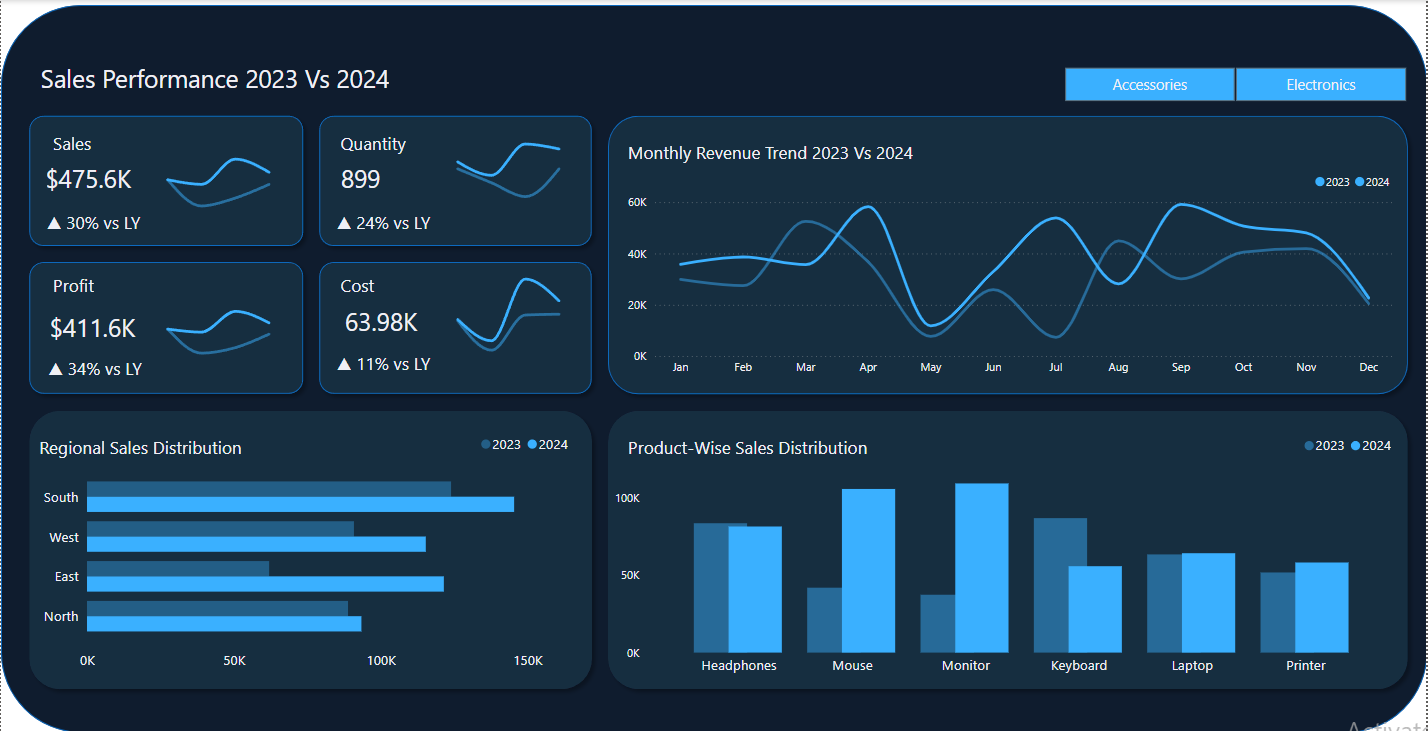

What the dashboard file says about the page in this screenshot:
{"tool":"powerbi","page":{"name":"Page 1","canvas":[1550,800],"ordinal":0},"visuals":[{"type":"shape","box":[0,5,1550.3,791],"z":0,"group":"g1"},{"type":"group","id":"g1","title":"Group 1","box":[0,5,1550.3,791],"z":0},{"type":"shape","box":[21.6,116.3,315.7,159.5],"z":1000,"group":"g1"},{"type":"textbox","box":[51.5,137.9,93.1,39.9],"z":1000},{"type":"shape","box":[337.3,116.3,314.1,159.5],"z":2000,"group":"g1"},{"type":"textbox","box":[363.9,292.5,81.4,39.9],"z":2000},{"type":"textbox","box":[363.9,137.9,98,39.9],"z":3000},{"type":"shape","box":[21.6,275.9,315.7,161.2],"z":3000,"group":"g1"},{"type":"shape","box":[337.3,275.9,314.1,161.2],"z":4000,"group":"g1"},{"type":"textbox","box":[51.5,292.5,93.1,39.9],"z":4000},{"type":"shape","box":[651.4,116.3,887.3,320.7],"z":5000,"group":"g1"},{"type":"textbox","box":[36.6,468.6,262.5,48.2],"z":5000},{"type":"shape","box":[651.4,437,887.3,320.7],"z":6000,"group":"g1"},{"type":"textbox","box":[676.3,468.6,314.1,39.9],"z":6000},{"type":"textbox","box":[676.3,147.9,352.3,51.5],"z":7000},{"type":"shape","box":[21.6,437,629.8,320.7],"z":7000,"group":"g1"},{"type":"textbox","box":[38.2,63.1,423.7,44.9],"z":8000},{"type":"card","fields":{"Values":["Sheet1.Sales CY"]},"box":[21.6,171.2,146.2,48.2],"z":8000,"group":"g1"},{"type":"card","fields":{"Values":["Sheet1.Quantity CY"]},"box":[352.3,171.2,78.1,48.2],"z":9000},{"type":"card","fields":{"Values":["Sheet1.Sales YoY Indicator"]},"box":[21.6,216.1,157.9,54.8],"z":9000,"group":"g1"},{"type":"lineChart","fields":{"Category":["Sheet1.Month"],"Series":["Sheet1.Year"],"Y":["Sum(Sheet1.Sales)"]},"box":[676.3,177.8,842.5,239.3],"z":10000,"group":"g1"},{"type":"card","fields":{"Values":["Sheet1.Profit CY"]},"box":[38.2,332.3,123,48.2],"z":10000},{"type":"card","fields":{"Values":["Sheet1.Cost CY"]},"box":[363.9,332.3,98,36.6],"z":11000},{"type":"clusteredColumnChart","fields":{"Category":["Sheet1.Product"],"Y":["Sum(Sheet1.Sales)"],"Series":["Sheet1.Year"]},"box":[664.7,465.3,854.1,274.2],"z":11000,"group":"g1"},{"type":"card","fields":{"Values":["Sheet1.Profit YoY Indicator"]},"box":[36.6,380.5,131.3,44.9],"z":12000},{"type":"clusteredBarChart","fields":{"Y":["Sum(Sheet1.Sales)"],"Category":["Sheet1.Region"],"Series":["Sheet1.Year"]},"box":[36.6,462,589.9,275.8],"z":12000,"group":"g1"},{"type":"card","fields":{"Values":["Sheet1.Quantity YoY Indicator"]},"box":[337.3,216,157.9,54.8],"z":13000},{"type":"card","fields":{"Values":["Sheet1.Cost YoY Indicator"]},"box":[337.3,368.9,157.9,54.8],"z":14000},{"type":"lineChart","fields":{"Category":["Sheet1.Quarter"],"Series":["Sheet1.Year"],"Y":["Sum(Sheet1.Sales)"]},"box":[161.2,116.3,149.6,127.9],"z":15000},{"type":"lineChart","fields":{"Category":["Sheet1.Quarter"],"Series":["Sheet1.Year"],"Y":["Sheet1.Profit"]},"box":[161.2,304.1,149.6,127.9],"z":16000},{"type":"lineChart","fields":{"Category":["Sheet1.Quarter"],"Series":["Sheet1.Year"],"Y":["Sum(Sheet1.Quantity)"]},"box":[476.9,116.3,149.6,127.9],"z":17000},{"type":"lineChart","fields":{"Category":["Sheet1.Quarter"],"Series":["Sheet1.Year"],"Y":["Sum(Sheet1.Cost)"]},"box":[476.9,282.5,149.6,121.3],"z":18000},{"type":"slicer","fields":{"Values":["Sheet1.Category"]},"box":[1129.9,66.5,420.4,49.9],"z":18001}]}

Visuals, with their boxes in screenshot pixels (x1, y1, x2, y2), scaled from the page's 1550x800 canvas onto the 1428x731 screenshot:
shape: 0, 5, 1427, 727
"Group 1" group: 0, 5, 1427, 727
shape: 20, 106, 311, 252
textbox: 47, 126, 133, 162
shape: 311, 106, 600, 252
textbox: 335, 267, 410, 304
textbox: 335, 126, 426, 162
shape: 20, 252, 311, 399
shape: 311, 252, 600, 399
textbox: 47, 267, 133, 304
shape: 600, 106, 1418, 399
textbox: 34, 428, 276, 472
shape: 600, 399, 1418, 692
textbox: 623, 428, 912, 465
textbox: 623, 135, 948, 182
shape: 20, 399, 600, 692
textbox: 35, 58, 426, 99
card - Sheet1.Sales CY: 20, 156, 155, 200
card - Sheet1.Quantity CY: 325, 156, 397, 200
card - Sheet1.Sales YoY Indicator: 20, 197, 165, 248
lineChart - Sheet1.Month x Sheet1.Year: 623, 162, 1399, 381
card - Sheet1.Profit CY: 35, 304, 149, 348
card - Sheet1.Cost CY: 335, 304, 426, 337
clusteredColumnChart - Sheet1.Product x Sum(Sheet1.Sales): 612, 425, 1399, 676
card - Sheet1.Profit YoY Indicator: 34, 348, 155, 389
clusteredBarChart - Sum(Sheet1.Sales) x Sheet1.Region: 34, 422, 577, 674
card - Sheet1.Quantity YoY Indicator: 311, 197, 456, 247
card - Sheet1.Cost YoY Indicator: 311, 337, 456, 387
lineChart - Sheet1.Quarter x Sheet1.Year: 149, 106, 286, 223
lineChart - Sheet1.Quarter x Sheet1.Year: 149, 278, 286, 395
lineChart - Sheet1.Quarter x Sheet1.Year: 439, 106, 577, 223
lineChart - Sheet1.Quarter x Sheet1.Year: 439, 258, 577, 369
slicer - Sheet1.Category: 1041, 61, 1427, 106
